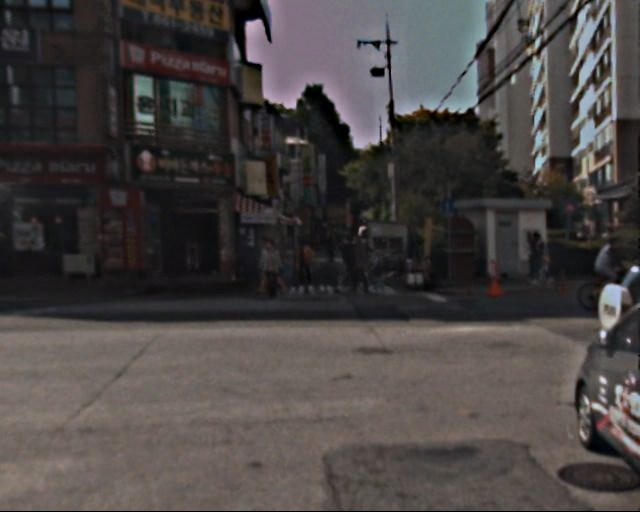person: (591, 237, 617, 301), (260, 240, 283, 295), (354, 239, 377, 294), (527, 230, 549, 284), (254, 240, 275, 292), (298, 243, 317, 289), (345, 239, 363, 282), (375, 255, 392, 296), (327, 231, 340, 262)
